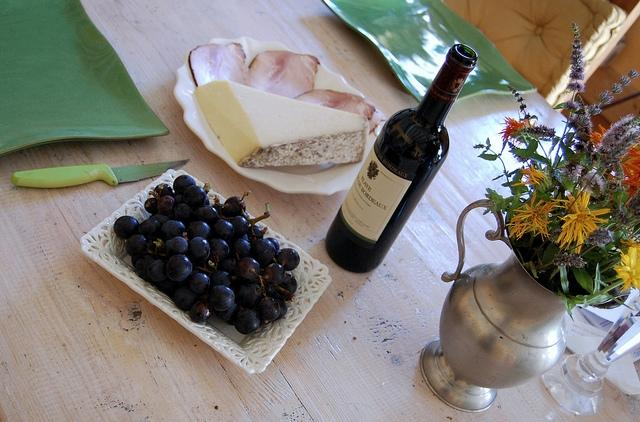grape: (220, 190, 252, 217), (234, 308, 261, 334), (166, 255, 192, 282), (185, 238, 211, 264), (238, 284, 264, 310), (210, 285, 235, 311), (160, 221, 188, 244), (190, 205, 220, 226), (250, 239, 275, 264), (173, 287, 200, 310), (114, 216, 140, 239), (237, 257, 260, 283), (172, 203, 194, 229), (208, 237, 230, 263), (139, 218, 162, 242), (182, 185, 206, 208), (276, 248, 300, 271), (258, 297, 280, 321), (124, 234, 148, 256), (210, 219, 234, 241), (173, 174, 196, 196), (188, 220, 210, 242), (264, 264, 286, 286), (191, 300, 212, 323), (229, 216, 249, 240), (214, 302, 239, 320), (136, 254, 157, 274), (148, 260, 167, 282), (210, 272, 233, 290), (278, 274, 298, 294), (190, 274, 210, 294), (272, 294, 287, 320), (158, 196, 177, 216), (234, 239, 252, 260), (169, 236, 188, 255), (220, 255, 237, 276), (154, 184, 173, 198), (246, 226, 264, 240), (144, 198, 158, 214), (165, 240, 176, 256), (266, 238, 280, 250), (234, 277, 242, 297)
